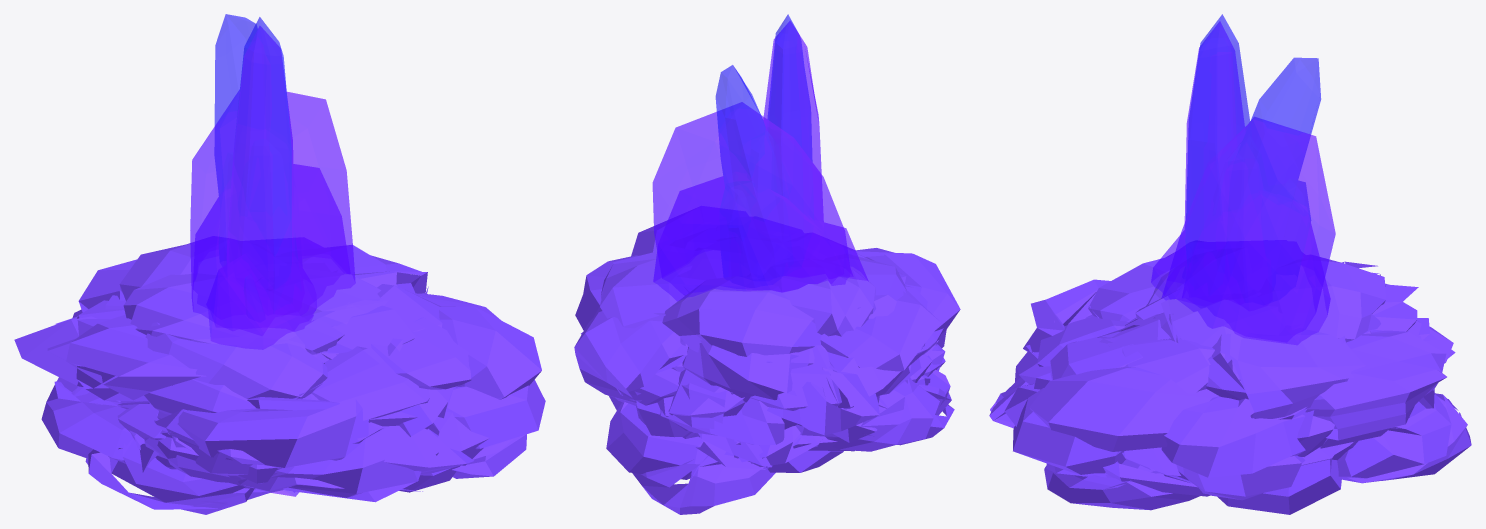
Rendered from XRYSTAL26.gltf.
3 renders of one model, left to right at view 1: azimuth 30°, elevation 25°; view 2: azimuth 150°, elevation 25°; view 3: azimuth 270°, elevation 25°, orthographic. The views are drawn at different scales.
Parts seen in each view (by area): view 1: Cube.001, Circle.001, Circle; view 2: Cube.001, Circle.001, Circle; view 3: Cube.001, Circle.001, Circle.
Boxes of the visible parts, <box> form: Cube.001: <box>14,242,545,514</box>; Circle.001: <box>190,26,355,496</box>; Circle: <box>214,14,297,290</box>; Cube.001: <box>574,220,960,514</box>; Circle.001: <box>652,21,868,301</box>; Circle: <box>715,14,813,281</box>; Cube.001: <box>989,252,1471,514</box>; Circle.001: <box>1151,21,1335,344</box>; Circle: <box>1185,14,1320,291</box>.
Size of the model in its own units: 3.32 by 3.73 by 3.51.
